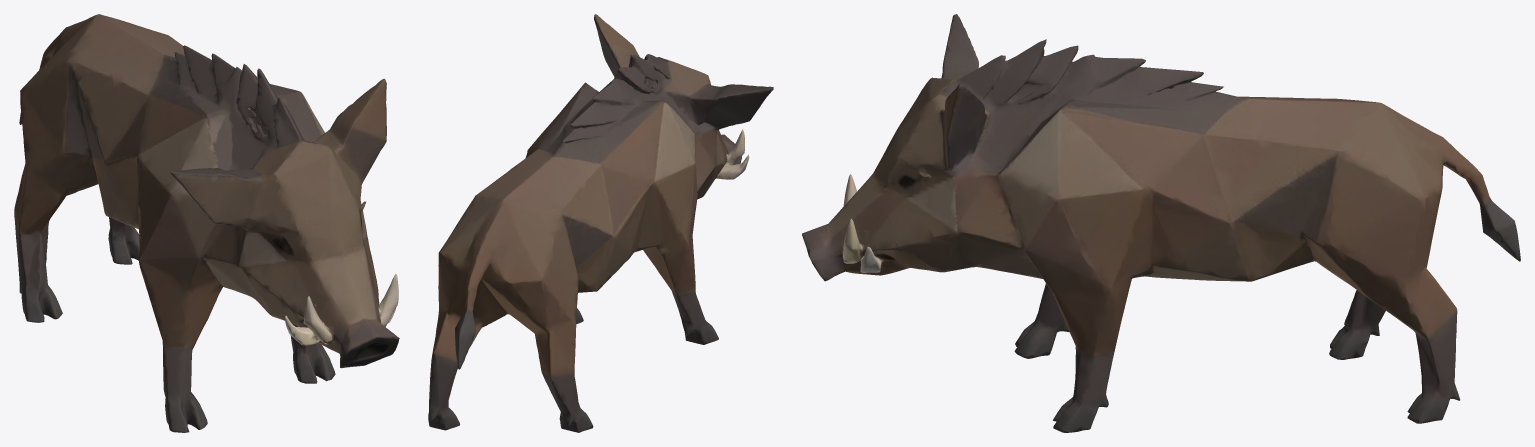
Rendered from boar.glb.
3 renders of one model, left to right at view 1: azimuth 30°, elevation 25°; view 2: azimuth 150°, elevation 25°; view 3: azimuth 270°, elevation 25°, orthographic. The views are drawn at different scales.
Visible parts, largest first — view 1: tripo_node_bf898676-ba4a-4aea-8f2b-4cc101417223; view 2: tripo_node_bf898676-ba4a-4aea-8f2b-4cc101417223; view 3: tripo_node_bf898676-ba4a-4aea-8f2b-4cc101417223.
Part boxes in pixels (box(x1,y1,x2,y2)): tripo_node_bf898676-ba4a-4aea-8f2b-4cc101417223: box(14, 14, 399, 432); tripo_node_bf898676-ba4a-4aea-8f2b-4cc101417223: box(428, 14, 773, 432); tripo_node_bf898676-ba4a-4aea-8f2b-4cc101417223: box(802, 14, 1520, 432).
Bounding box in the file's own units: 0.3789 × 0.5384 × 0.9992.
1 material, 1 textured.
